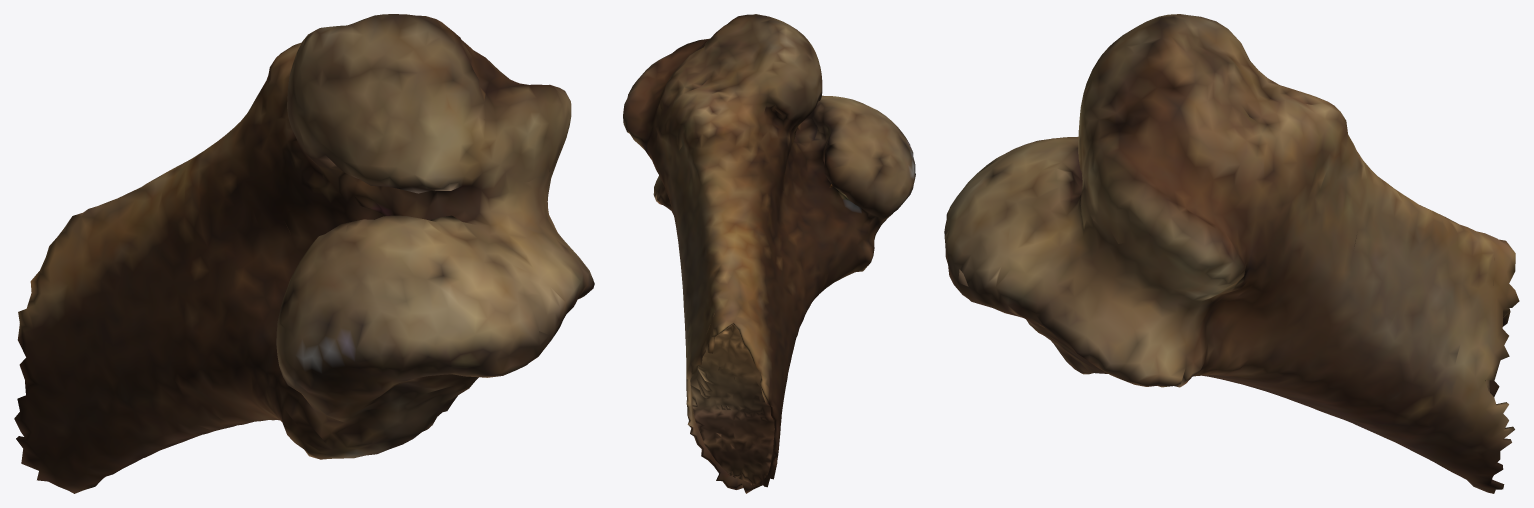
File: FINAL_half_mastadon_bone(endofsemester).fbx
The picture shows the model from 3 angles, left to right: view 1: azimuth 30°, elevation 25°; view 2: azimuth 150°, elevation 25°; view 3: azimuth 270°, elevation 25°; orthographic projection. The views are drawn at different scales.
Parts seen in each view (by area): view 1: outside_bone; view 2: outside_bone, inside_bone; view 3: outside_bone.
Part boxes in pixels (bbox=[...]): outside_bone: bbox=[14, 14, 594, 493]; outside_bone: bbox=[623, 14, 915, 493]; inside_bone: bbox=[690, 313, 774, 485]; outside_bone: bbox=[944, 14, 1519, 493].
Size of the model in its own units: 10716 by 15070 by 14732.
